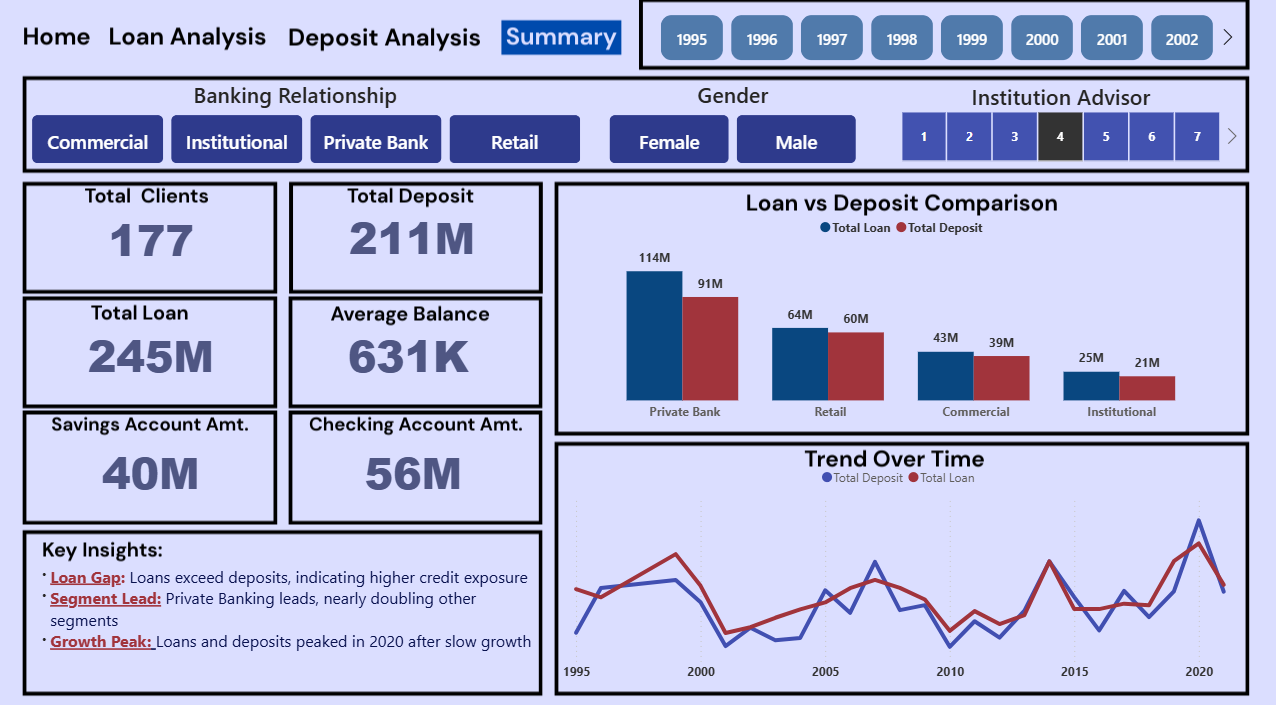

This screenshot's page, from the dashboard's own definition file:
{"tool":"powerbi","page":{"name":"Summary","canvas":[1280,720],"ordinal":3},"visuals":[{"type":"advancedSlicerVisual","fields":{"Values":["customer.Joined_Bank.Variation.Date Hierarchy.Year"]},"box":[640,15.7,607.1,55.7],"z":0},{"type":"advancedSlicerVisual","fields":{"Values":["customer.BRId"]},"box":[31.4,115.7,561.4,58.6],"z":1},{"type":"advancedSlicerVisual","fields":{"Values":["customer.GenderId"]},"box":[608.6,115.7,257.1,58.6],"z":2},{"type":"slicer","fields":{"Values":["customer.IAId"]},"box":[880,111.4,367.1,62.9],"z":3},{"type":"textbox","box":[930,82.9,270,47.1],"z":4},{"type":"textbox","box":[665.7,81.4,141.4,47.1],"z":5},{"type":"textbox","box":[192.9,81.4,240,47.1],"z":6},{"type":"card","fields":{"Values":["CountNonNull(customer.Name)"]},"box":[58.6,202.9,192.9,84.3],"z":7},{"type":"card","fields":{"Values":["customer.Total Loan"]},"box":[61.4,320,187.1,81.4],"z":8},{"type":"card","fields":{"Values":["customer.Total Deposit"]},"box":[322.9,202.9,187.1,81.4],"z":9},{"type":"card","fields":{"Values":["Sum(customer.Saving_Accounts)"]},"box":[55.7,437.1,197.1,81.4],"z":10},{"type":"card","fields":{"Values":["Sum(customer.Checking_Accounts)"]},"box":[318.6,437.1,197.1,81.4],"z":11},{"type":"card","fields":{"Values":["customer.Avg Balance"]},"box":[318.6,320,187.1,81.4],"z":12},{"type":"lineChart","fields":{"Category":["customer.Joined_Bank.Variation.Date Hierarchy.Year"],"Y":["customer.Total Deposit","customer.Total Loan"]},"box":[561.4,464.3,685.7,232.9],"z":13},{"type":"clusteredColumnChart","fields":{"Y":["customer.Total Loan","customer.Total Deposit"],"Category":["customer.BRId"]},"box":[567.1,214.3,680,222.9],"z":14},{"type":"textbox","box":[31.4,567.1,514.3,152.9],"z":15}]}

Visuals, with their boxes in screenshot pixels (x1, y1, x2, y2), scaled from the page's 1280x720 canvas onto the 1276x705 screenshot:
advancedSlicerVisual - customer.Joined_Bank.Variation.Date Hierarchy.Year: x1=638, y1=15, x2=1243, y2=70
advancedSlicerVisual - customer.BRId: x1=31, y1=113, x2=591, y2=171
advancedSlicerVisual - customer.GenderId: x1=607, y1=113, x2=863, y2=171
slicer - customer.IAId: x1=877, y1=109, x2=1243, y2=171
textbox: x1=927, y1=81, x2=1196, y2=127
textbox: x1=664, y1=80, x2=805, y2=126
textbox: x1=192, y1=80, x2=432, y2=126
card - CountNonNull(customer.Name): x1=58, y1=199, x2=251, y2=281
card - customer.Total Loan: x1=61, y1=313, x2=248, y2=393
card - customer.Total Deposit: x1=322, y1=199, x2=508, y2=278
card - Sum(customer.Saving_Accounts): x1=56, y1=428, x2=252, y2=508
card - Sum(customer.Checking_Accounts): x1=318, y1=428, x2=514, y2=508
card - customer.Avg Balance: x1=318, y1=313, x2=504, y2=393
lineChart - customer.Joined_Bank.Variation.Date Hierarchy.Year x customer.Total Deposit: x1=560, y1=455, x2=1243, y2=683
clusteredColumnChart - customer.Total Loan x customer.Total Deposit: x1=565, y1=210, x2=1243, y2=428
textbox: x1=31, y1=555, x2=544, y2=704
